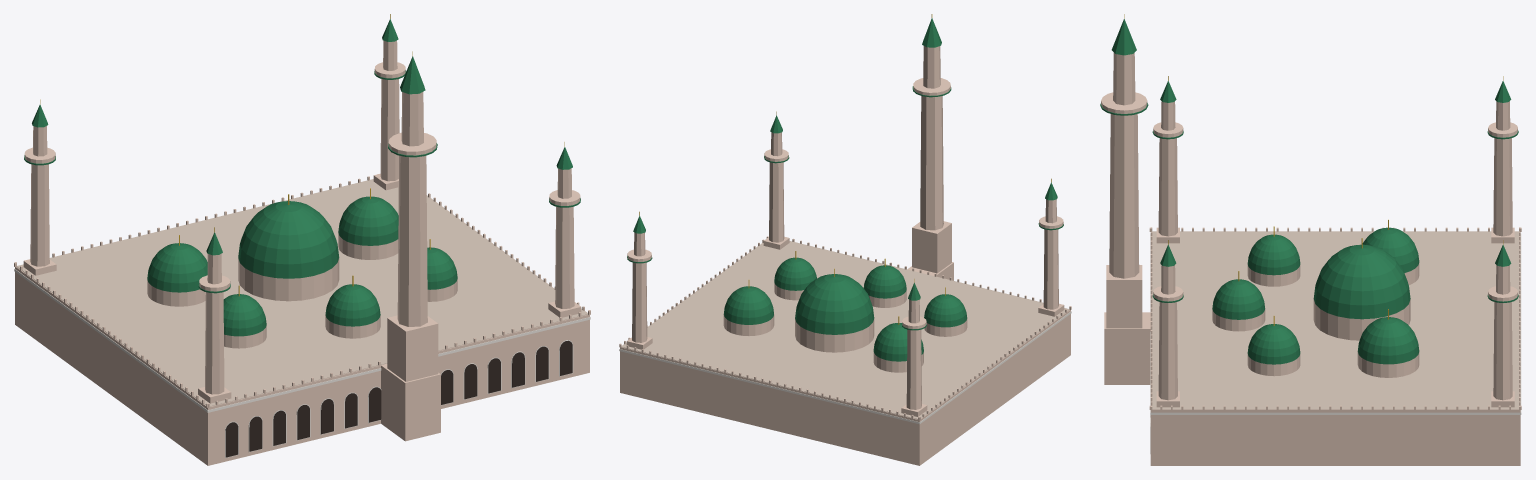
File: mosquee_touba.glb
3 renders of one model, left to right at view 1: azimuth 30°, elevation 25°; view 2: azimuth 150°, elevation 25°; view 3: azimuth 270°, elevation 25°, orthographic. The views are drawn at different scales.
Visible parts, largest first — view 1: mosquee_touba; view 2: mosquee_touba; view 3: mosquee_touba.
Boxes of the visible parts, left/top/right/bottom form: mosquee_touba: left=14, top=14, right=590, bottom=465; mosquee_touba: left=619, top=14, right=1071, bottom=465; mosquee_touba: left=1100, top=14, right=1521, bottom=465.
Bounding box in the file's own units: 96.44 × 90.81 × 95.66.
